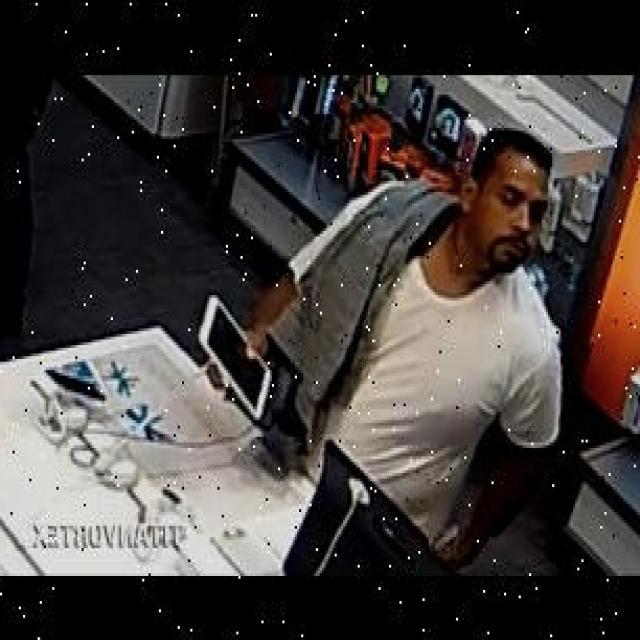Shoplifting: (169, 102, 577, 548)
